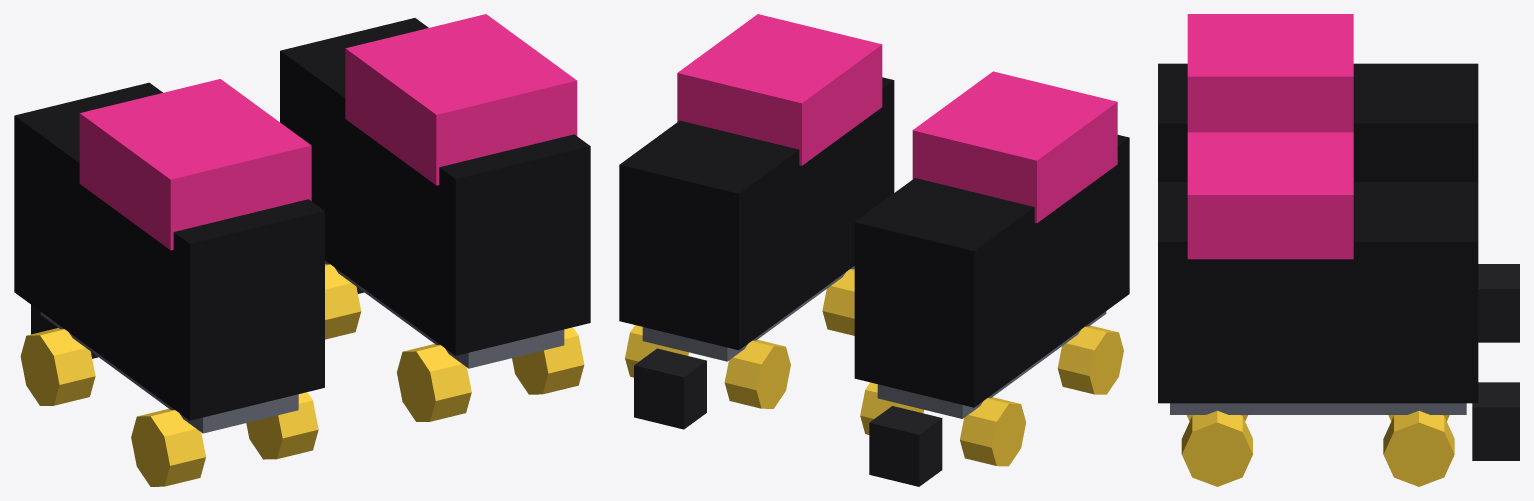
Rendered from SkatesBlack.obj.
3 views of the same model, side by side, from view 1: azimuth 30°, elevation 25°; view 2: azimuth 150°, elevation 25°; view 3: azimuth 270°, elevation 25° (orthographic). The views are drawn at different scales.
Parts seen in each view (by area): view 1: SkatesBlack; view 2: SkatesBlack; view 3: SkatesBlack.
Part boxes in pixels (x1,y1,x2,y2): SkatesBlack: [14, 14, 590, 486]; SkatesBlack: [619, 14, 1129, 486]; SkatesBlack: [1158, 14, 1519, 486].
Bounding box in the file's own units: 0.368 × 0.27 × 0.305.
Materials: 5 (5 with a texture image).
